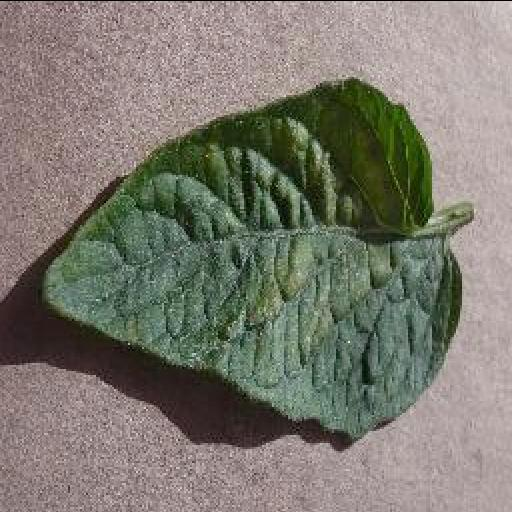disease_tomato: (42, 75, 464, 433)
